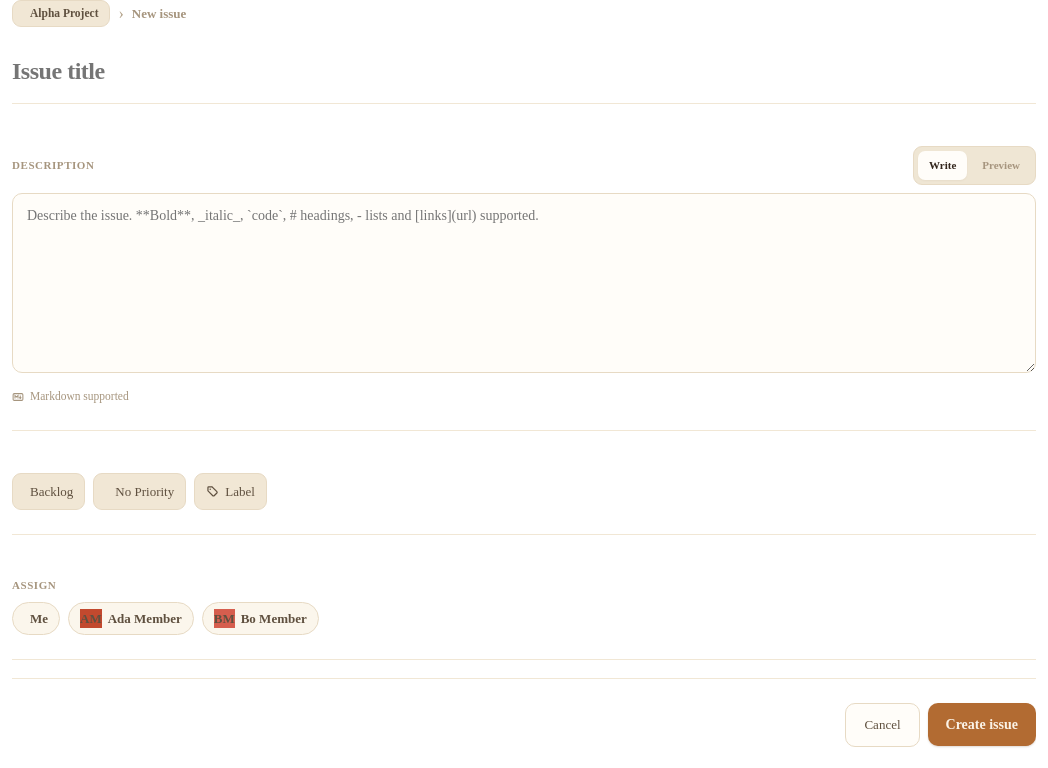
Test: CreateIssueForm › highlights a member when selected and clears the selection on Clear
This screenshot has width=1048, height=768.
Step 1. Click the button "AM Ada Member" → (131, 618), box [68, 602, 194, 635]
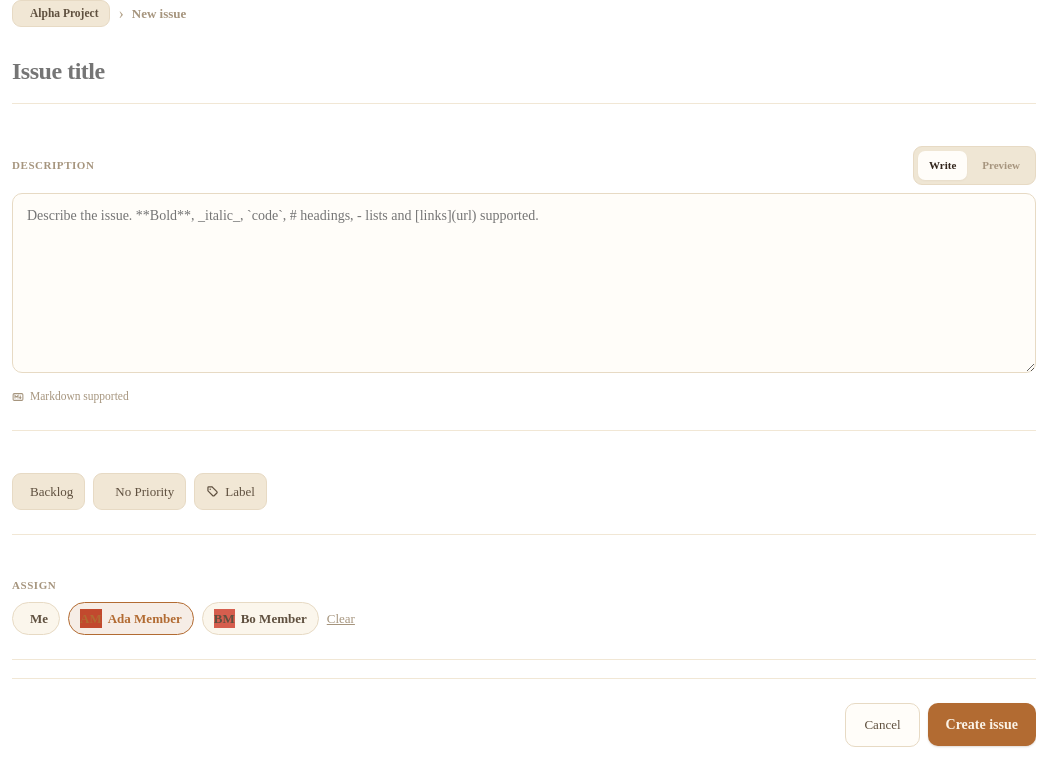
Expected: the button "AM Ada Member" is pressed, [68, 602, 194, 635]
Step 2. Click the button "Clear" → (341, 618), box [327, 609, 355, 628]
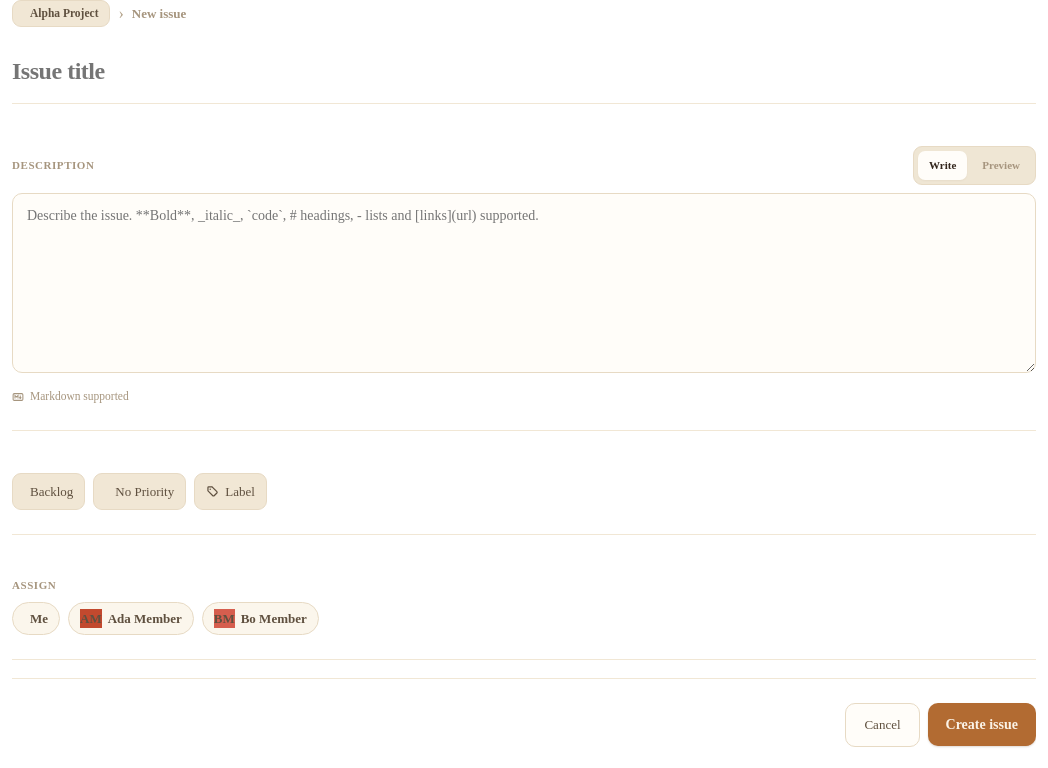
Expected: the button "Clear" is gone
